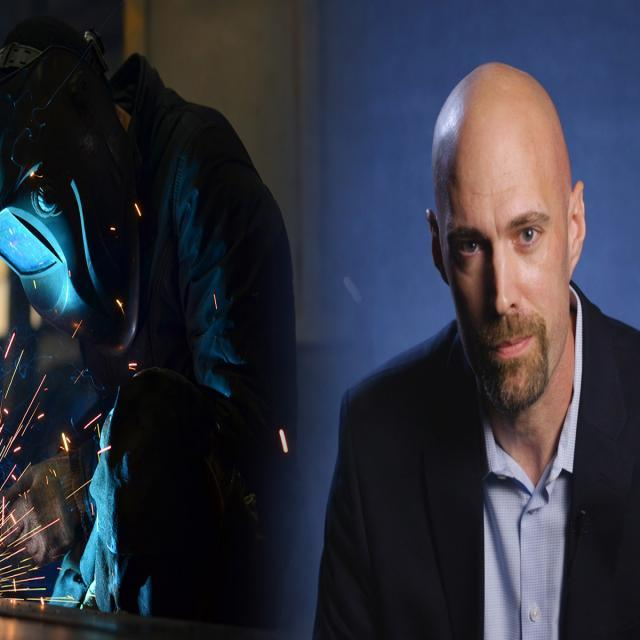No_Goggles: (454, 198, 557, 264)
No_Helmet: (422, 57, 587, 188)
Person: (288, 42, 638, 637)
